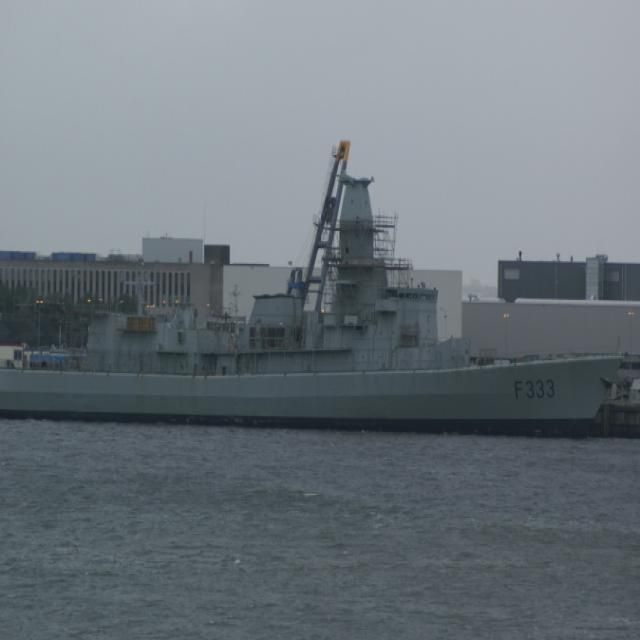Fragata: (1, 159, 632, 456)
